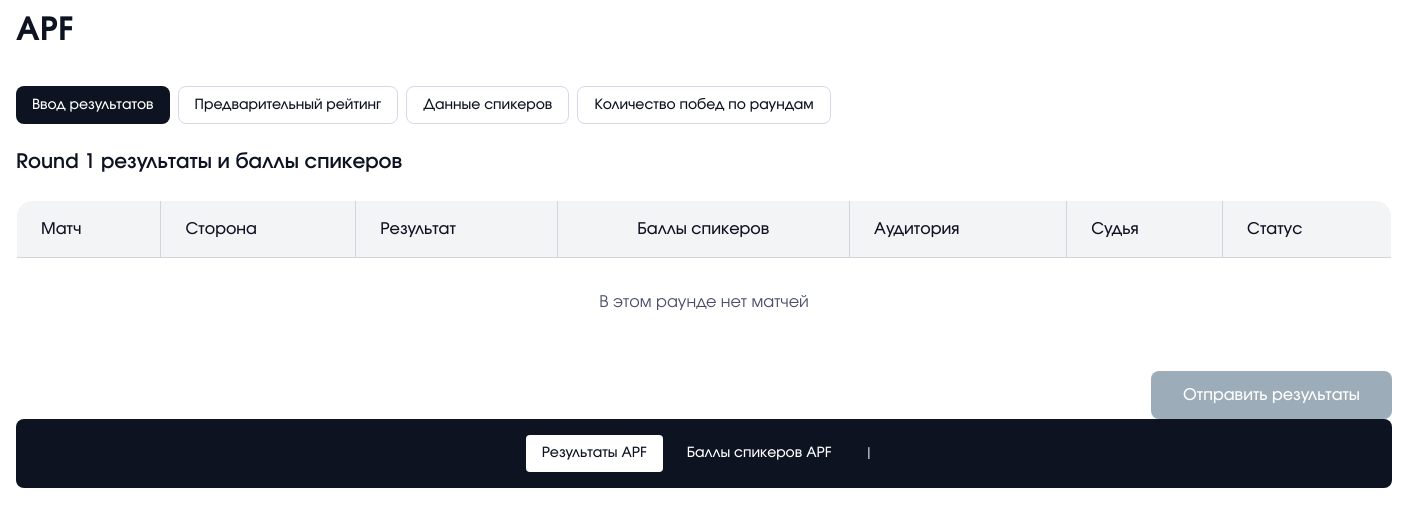
ResultsSection › renders the preliminary Results view in Russian
Click the button "Данные спикеров" at [488, 105], box [406,86,569,124]
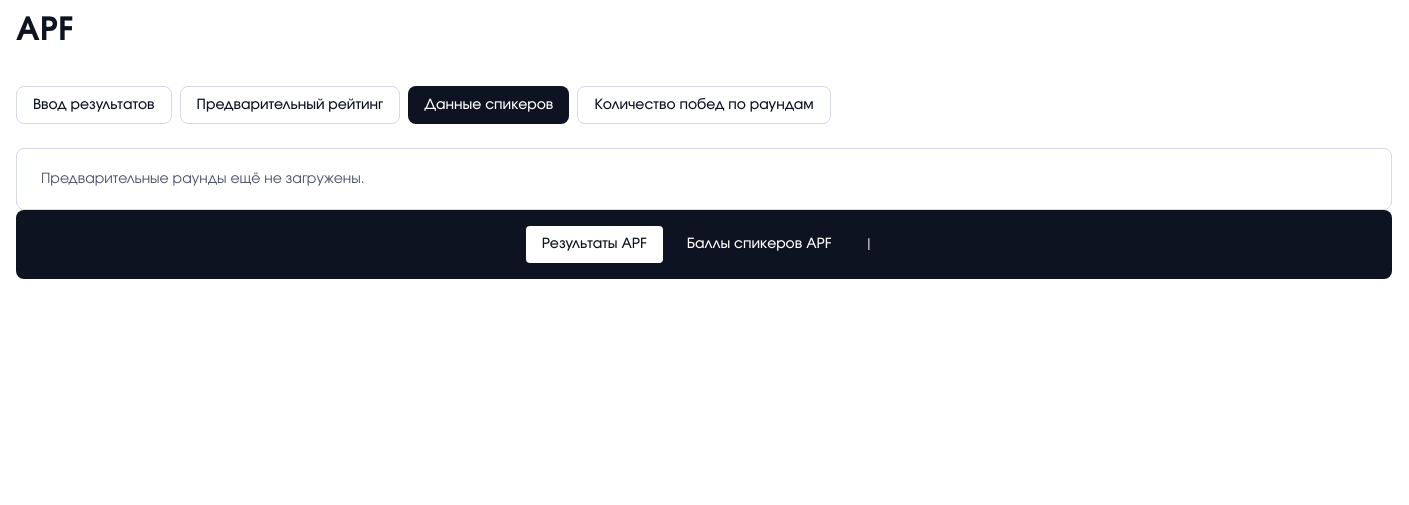
Expected: the text "Предварительные раунды ещё не загружены." is shown, [16,148,1392,210]
